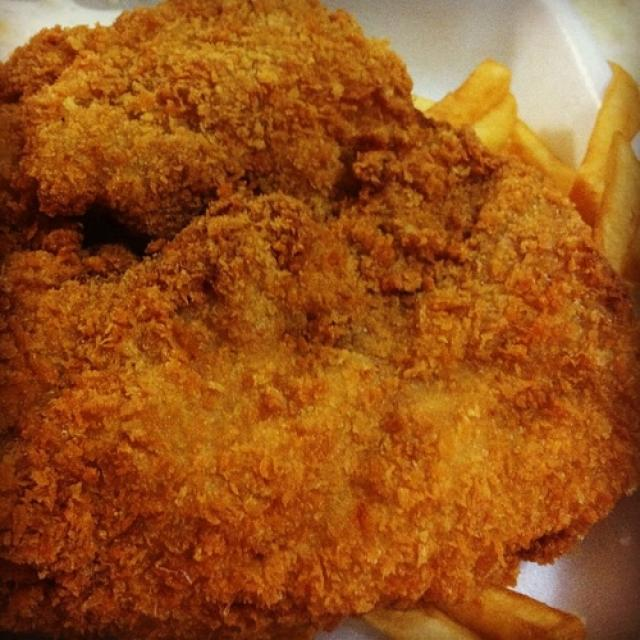鸡肉料理 含炸鸡: (5, 5, 630, 631)
